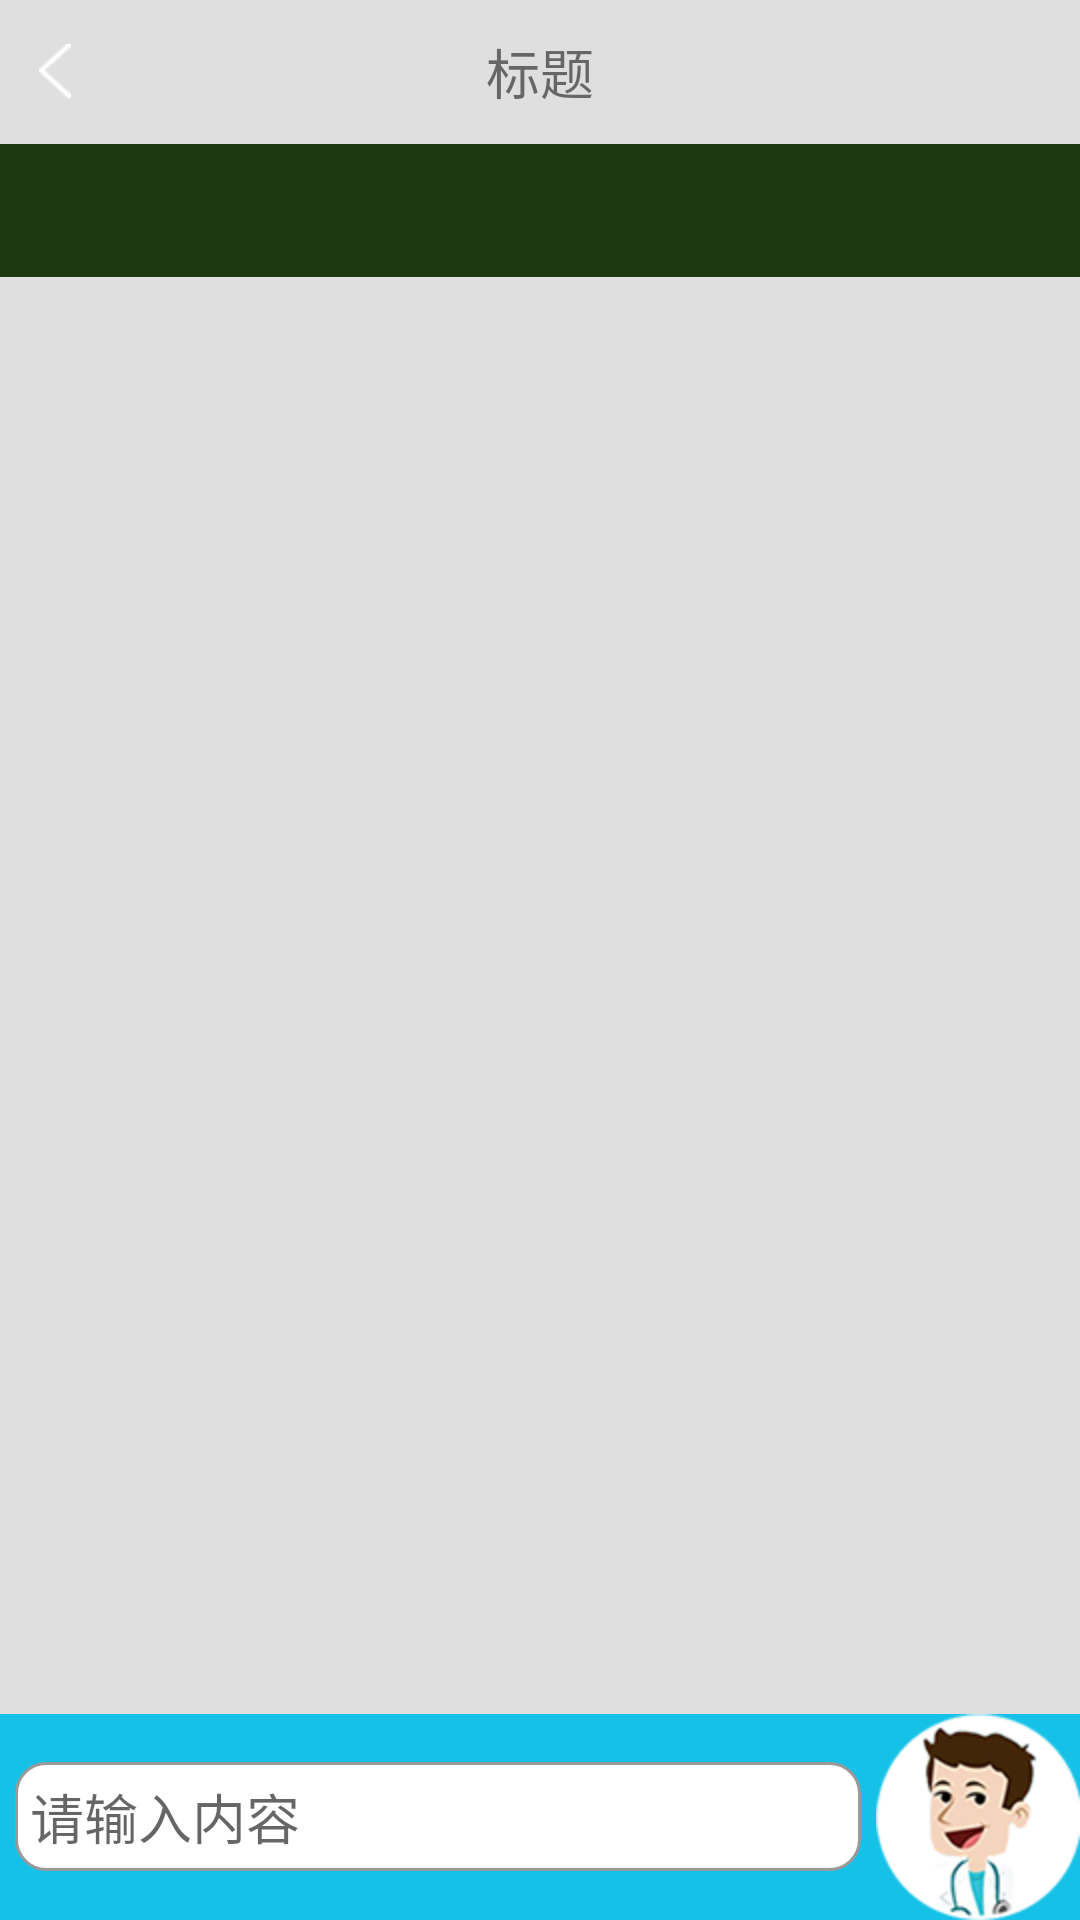

Point at icon controls on the screen. Image size 1080×1920, points as (x,y).
boy nol: (978,1817)
fanhui: (55,70)
